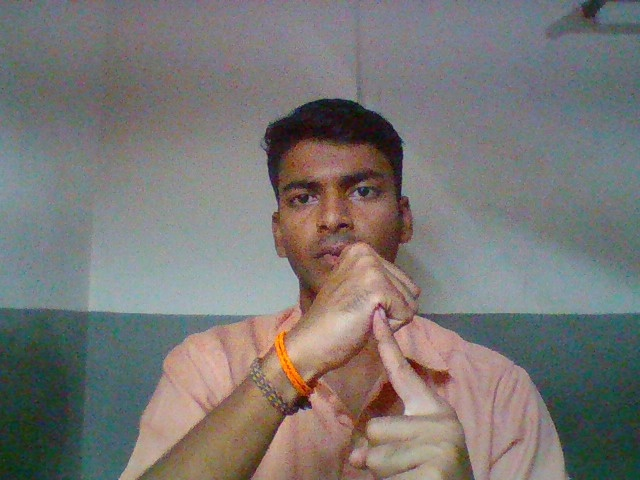Q: (277, 233, 475, 480)
